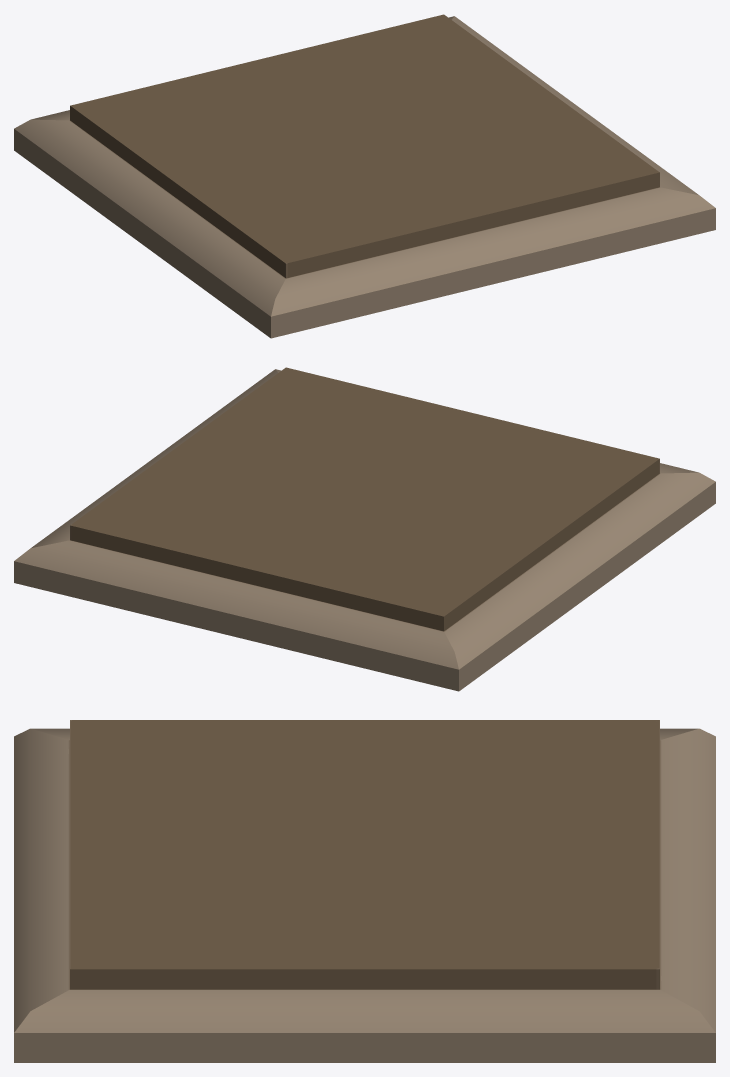
File: ObjS_PressurePlate.fbx
3 views of the same model, one above another, from view 1: azimuth 30°, elevation 25°; view 2: azimuth 150°, elevation 25°; view 3: azimuth 270°, elevation 25° (orthographic). The views are drawn at different scales.
Parts seen in each view (by area): view 1: pressurePlate; view 2: pressurePlate; view 3: pressurePlate.
Part boxes in pixels (x1=…): pressurePlate: x1=14, y1=14, x2=715, y2=338; pressurePlate: x1=14, y1=367, x2=715, y2=691; pressurePlate: x1=14, y1=720, x2=715, y2=1062.
Bounding box in the file's own units: 72.31 × 7.95 × 72.31.
Materials: 1 (1 with a texture image).
